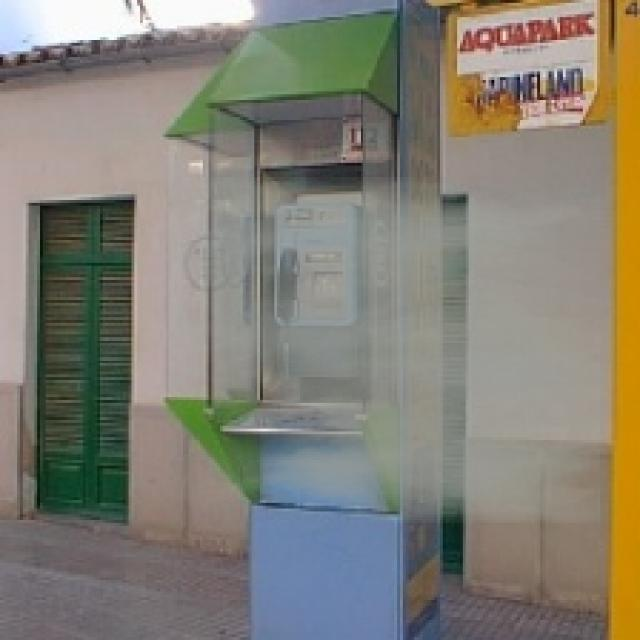smoke: (197, 177, 606, 523)
